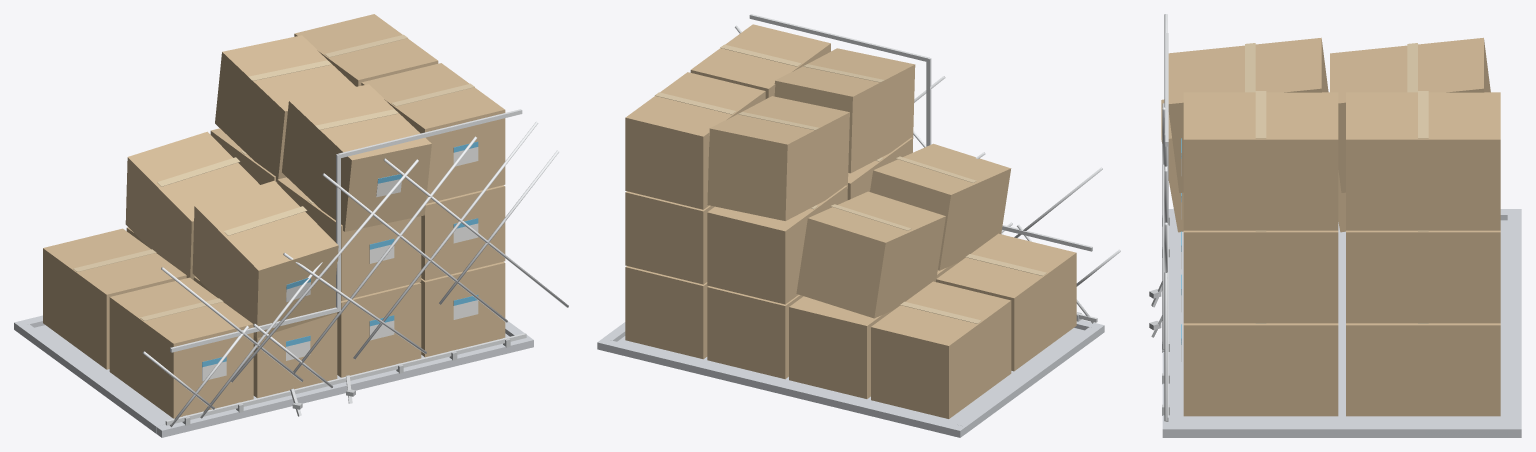
File: unsecuredboxes.fbx
3 views of the same model, side by side, from view 1: azimuth 30°, elevation 25°; view 2: azimuth 150°, elevation 25°; view 3: azimuth 270°, elevation 25° (orthographic). The views are drawn at different scales.
Parts seen in each view (by area): view 1: Hazard_PMC_Stepped_Cargo_Net; view 2: Hazard_PMC_Stepped_Cargo_Net; view 3: Hazard_PMC_Stepped_Cargo_Net.
Part boxes in pixels (box(x1,y1,x2,y2)): Hazard_PMC_Stepped_Cargo_Net: box(14, 14, 568, 437); Hazard_PMC_Stepped_Cargo_Net: box(597, 14, 1120, 437); Hazard_PMC_Stepped_Cargo_Net: box(1149, 14, 1521, 437).
Bounding box in the file's own units: 279 × 157 × 174.
